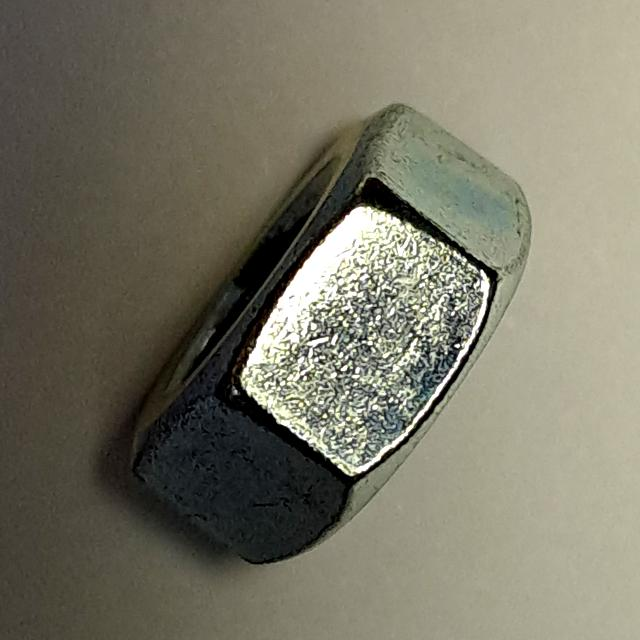Side_Excellent: (111, 102, 541, 583)
